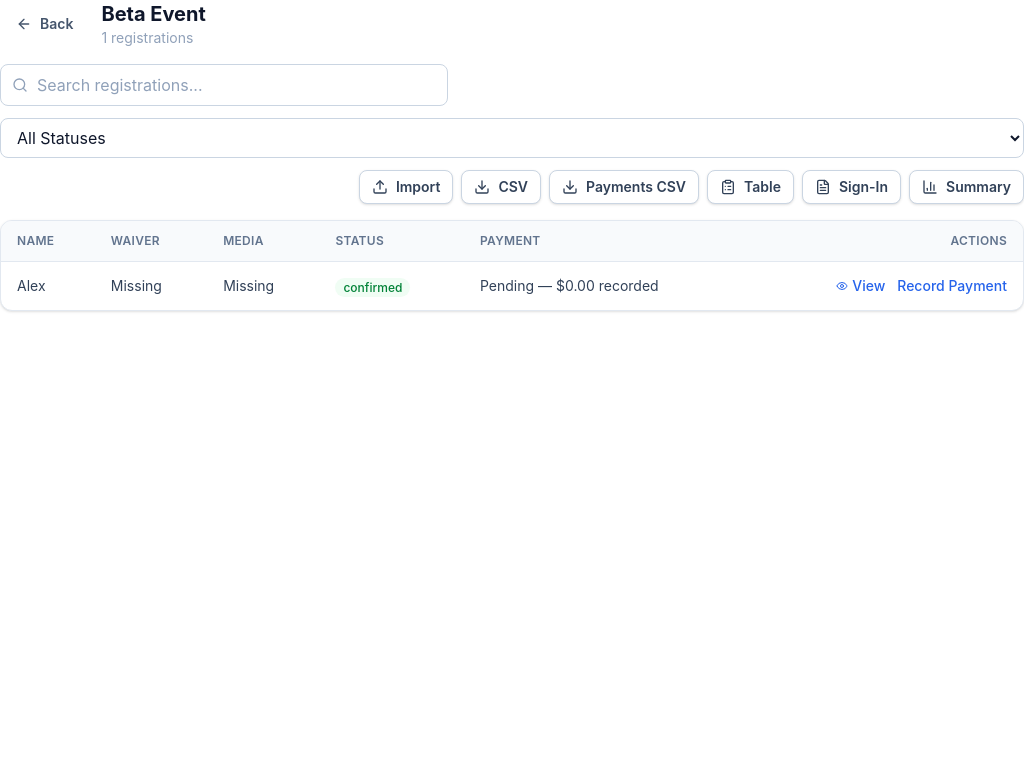
Test case: RegistrationViewer › records a check payment and preserves the registrant-selected method
The image size is (1024, 768).
Click the button "Record Payment": (952, 286) top-left (897, 276), bottom-right (1007, 296)
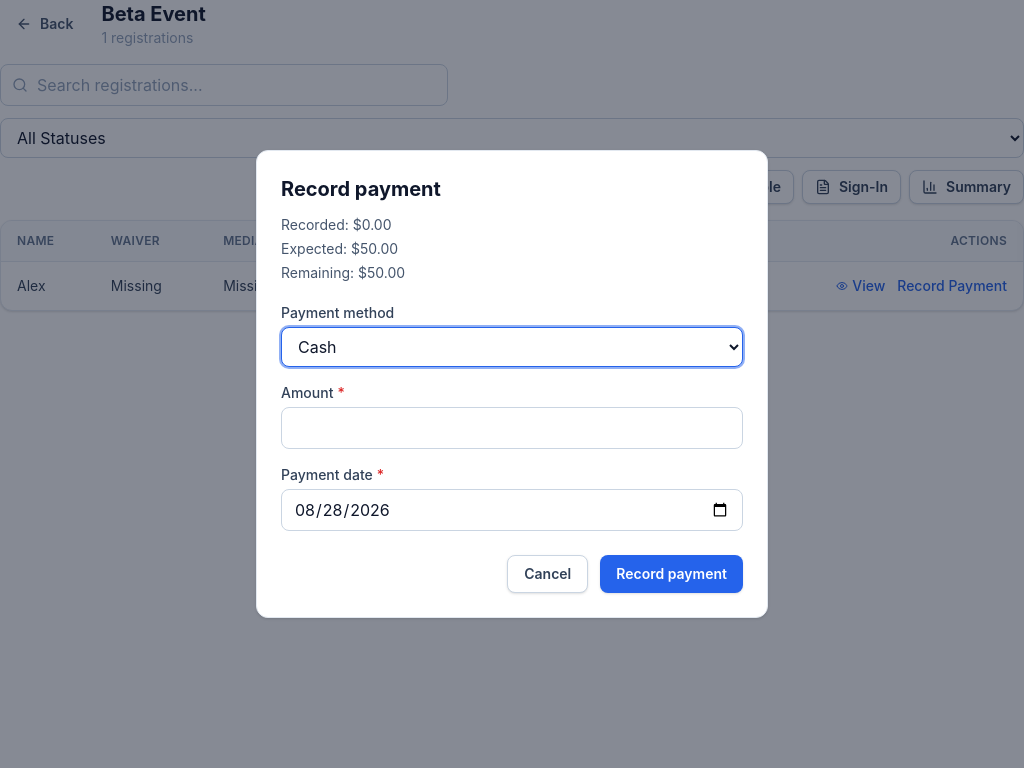
Select "Check" in the dropdown labelled "Payment method": (512, 347) top-left (281, 327), bottom-right (743, 367)
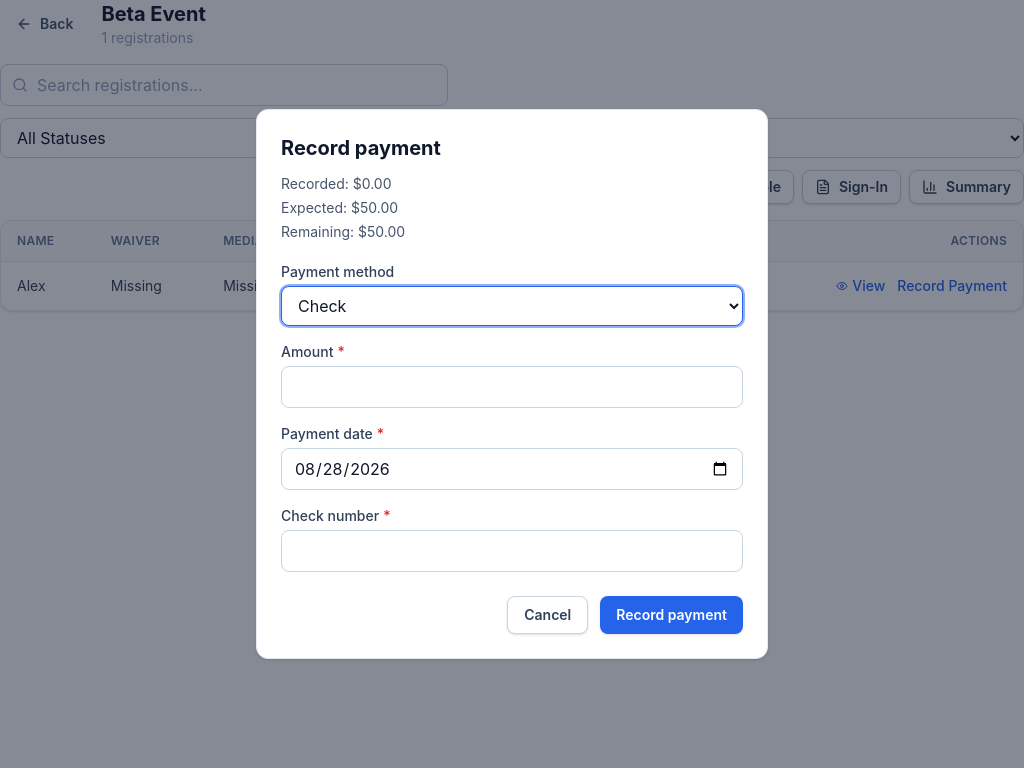
In the number field labelled "Amount*": (512, 387) top-left (281, 366), bottom-right (743, 408), type "25"
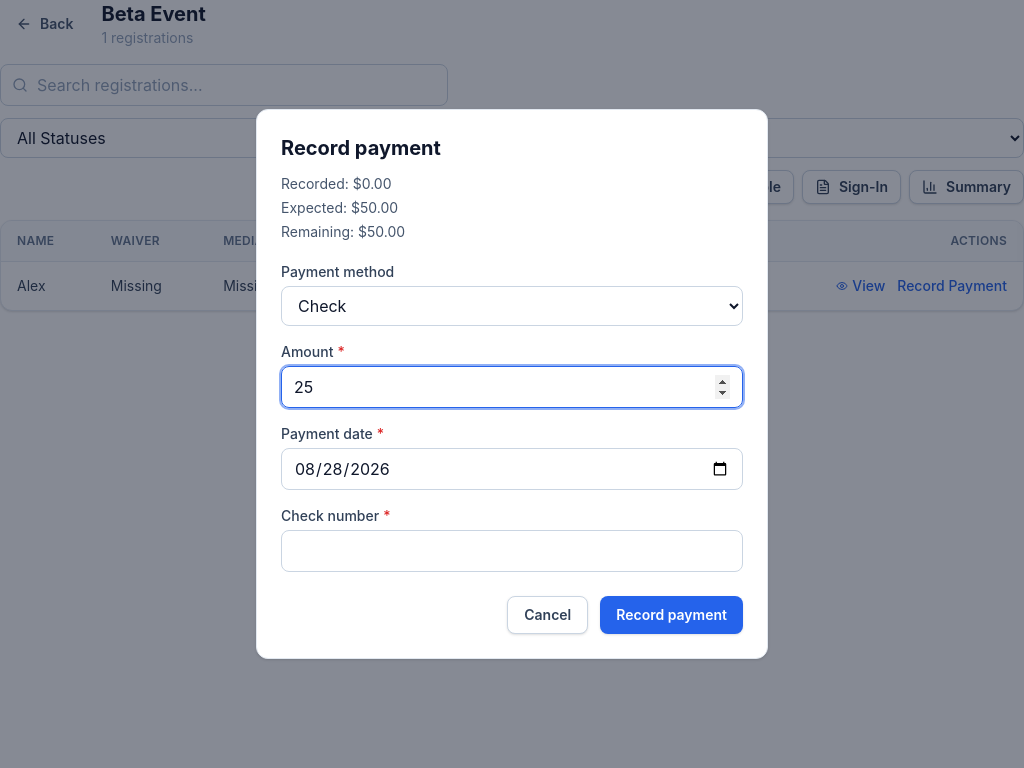
In the field labelled "Check number*": (512, 551) top-left (281, 530), bottom-right (743, 572), type "1042"
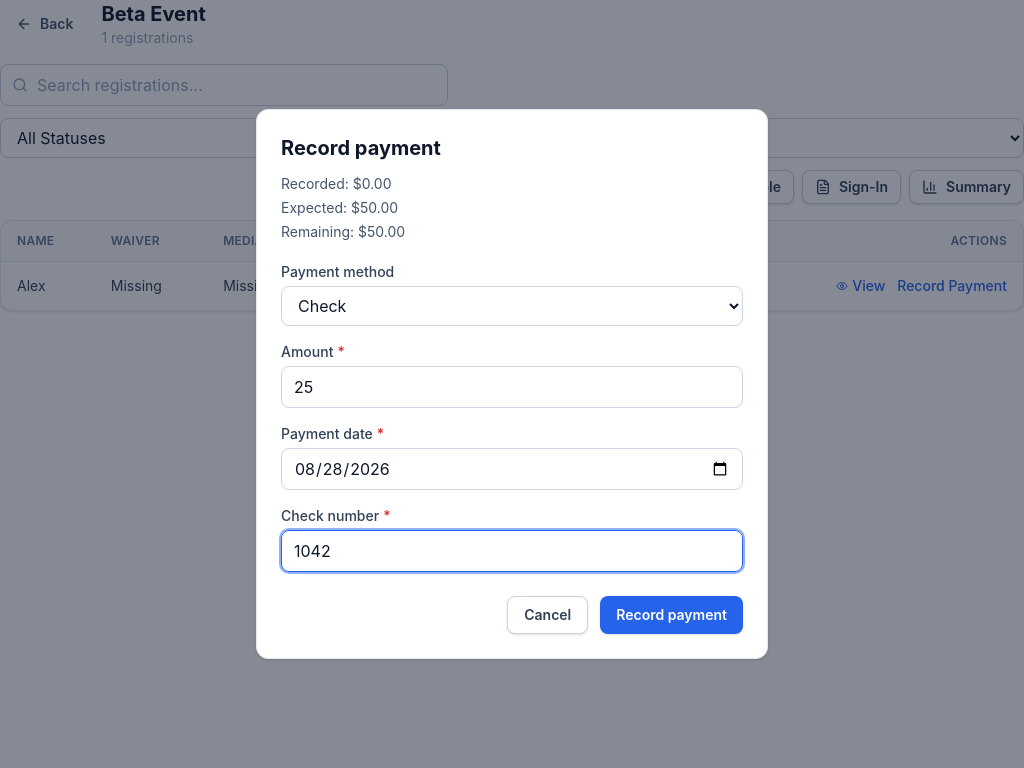
Click the button "Record payment": (672, 615) top-left (600, 596), bottom-right (743, 634)
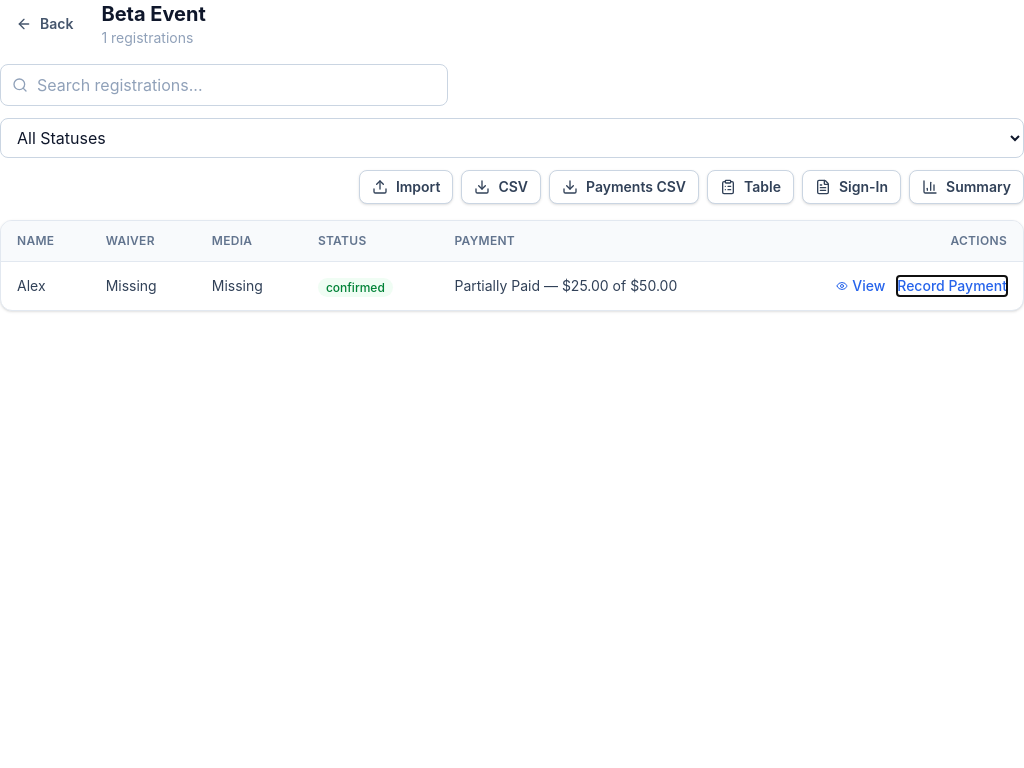
Expected: the text "Partially Paid — $25.00 of $50.00" is shown, top-left (438, 262), bottom-right (764, 310)
